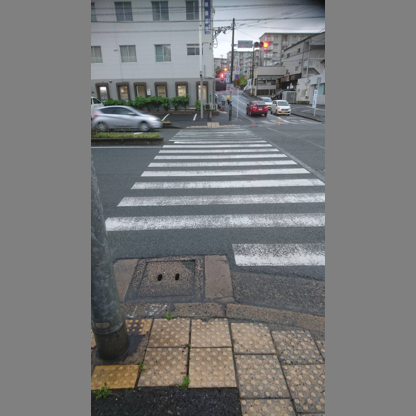brailleblock: (240, 341, 325, 414), (151, 318, 235, 384)
crosswalk: (138, 172, 317, 229), (162, 144, 272, 170)
signal: (217, 70, 225, 84)
